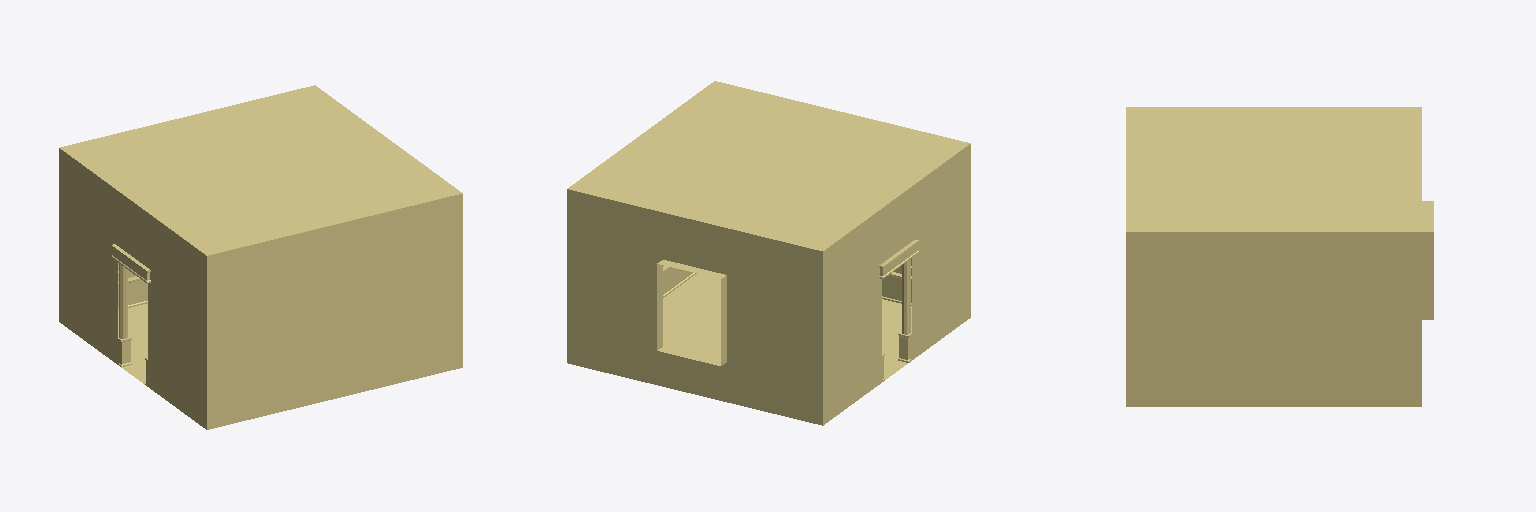
The model's file is room.obj.
3 renders of one model, left to right at view 1: azimuth 30°, elevation 25°; view 2: azimuth 150°, elevation 25°; view 3: azimuth 270°, elevation 25°, orthographic.
Visible parts, largest first — view 1: ??????????; view 2: ??????????; view 3: ??????????.
Part boxes in pixels (x1,y1,x2,y2): ??????????: (59,85,462,429); ??????????: (567,81,970,425); ??????????: (1126,107,1433,406).
Bounding box in the file's own units: 4.06 × 2.6 × 4.16.